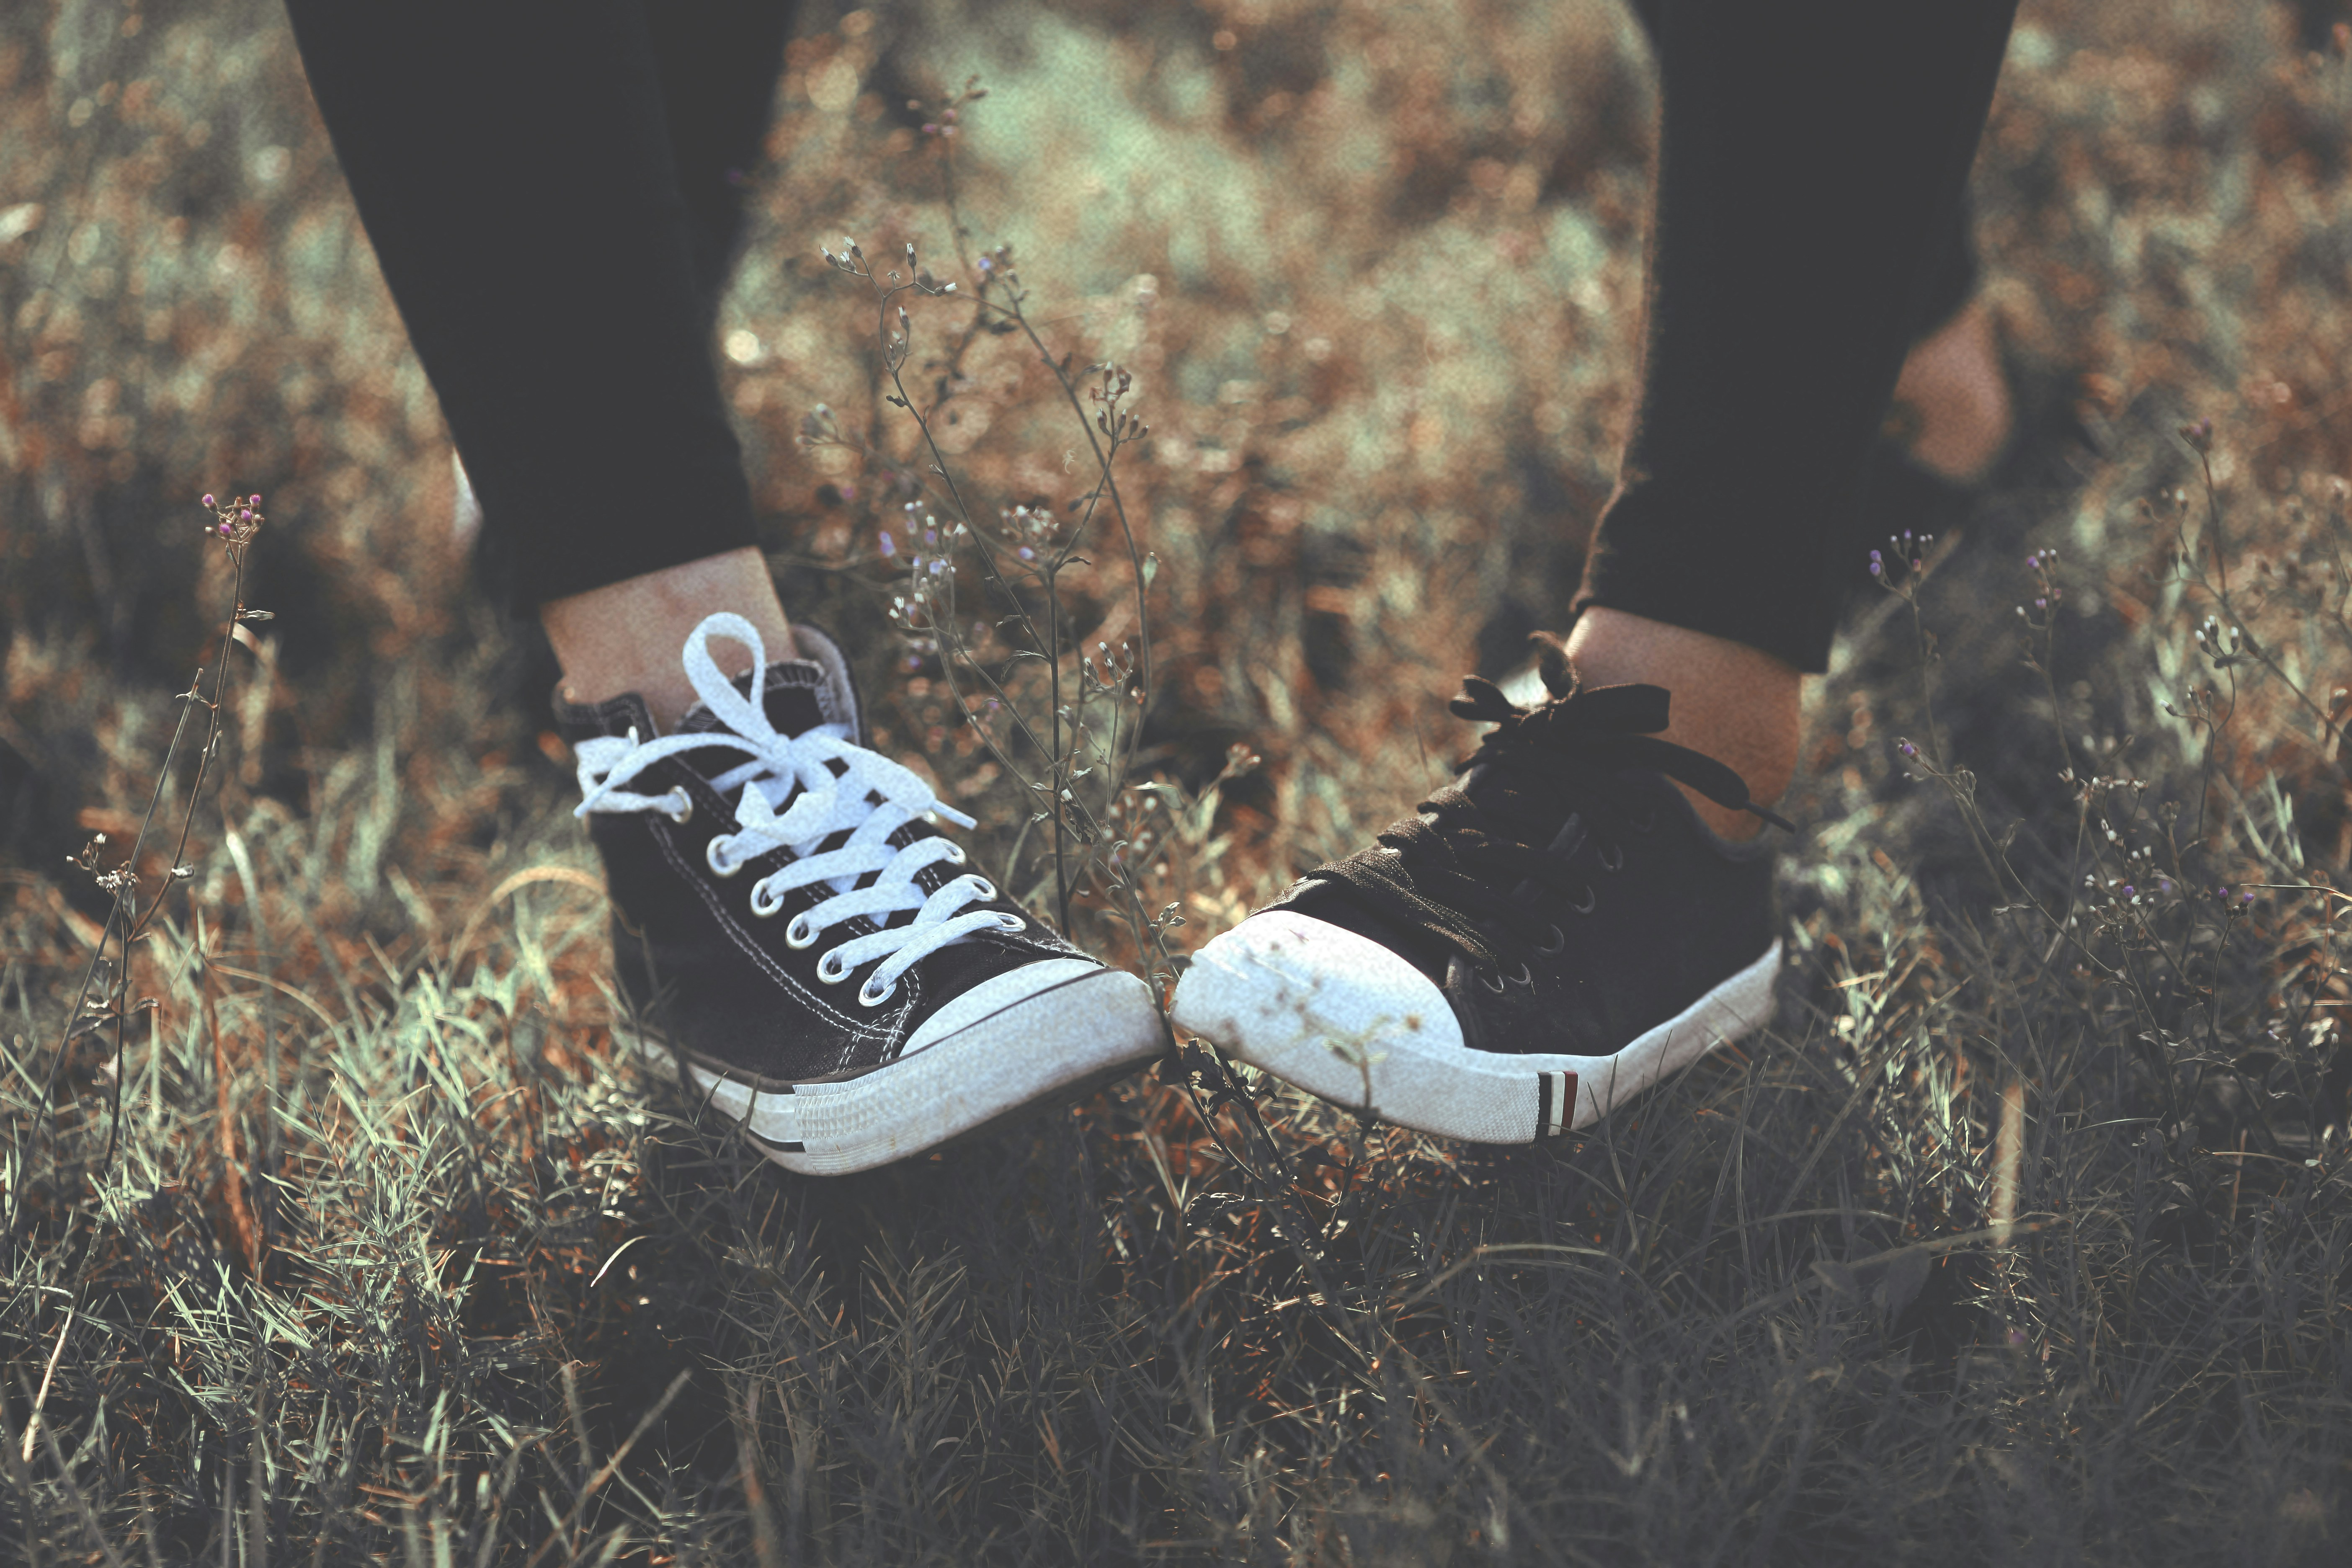Footwear: (529, 623, 1169, 1172), (1160, 707, 1790, 1127)
